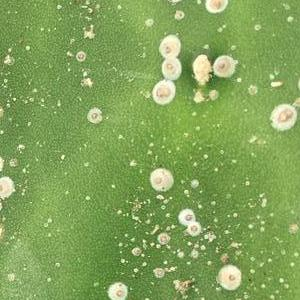Femea: (148, 167, 167, 191), (269, 108, 296, 123), (221, 265, 239, 286), (107, 284, 129, 298), (159, 41, 178, 57), (154, 81, 168, 102), (204, 0, 227, 12), (212, 59, 231, 73), (86, 110, 104, 122), (161, 62, 179, 74), (177, 208, 193, 221), (0, 175, 7, 199), (187, 224, 200, 234), (159, 233, 169, 245), (131, 245, 142, 255), (151, 269, 164, 276), (76, 53, 83, 59)
Linfa: (135, 192, 163, 220), (231, 229, 259, 256), (163, 258, 177, 270), (175, 250, 184, 259), (276, 276, 285, 283), (201, 152, 208, 159), (27, 96, 34, 103), (9, 95, 17, 101), (248, 255, 255, 261), (205, 259, 212, 265), (246, 223, 253, 229), (30, 87, 38, 92), (185, 240, 191, 246), (192, 242, 198, 248), (270, 292, 275, 299), (190, 160, 197, 165), (213, 166, 218, 173), (259, 227, 264, 233), (268, 211, 274, 216), (210, 199, 216, 204), (46, 218, 52, 223), (289, 261, 294, 266), (267, 258, 272, 263), (183, 189, 188, 194), (197, 203, 202, 208), (219, 148, 223, 154), (199, 245, 205, 249), (254, 214, 260, 218), (84, 196, 90, 200), (44, 222, 49, 226)
Macho: (269, 80, 283, 86)
